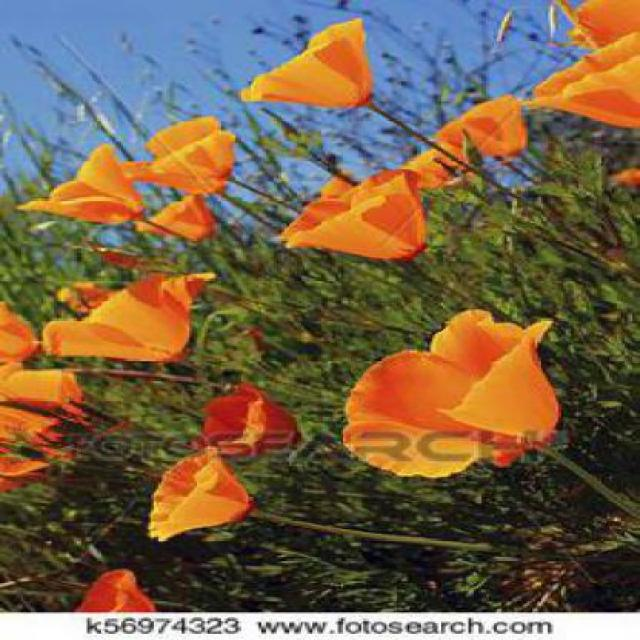Flower: (341, 308, 561, 479), (36, 270, 218, 364), (276, 168, 430, 262), (236, 16, 384, 112), (525, 32, 637, 133), (143, 443, 254, 543), (16, 142, 147, 226), (107, 115, 241, 197), (430, 94, 530, 158), (133, 192, 221, 243)
